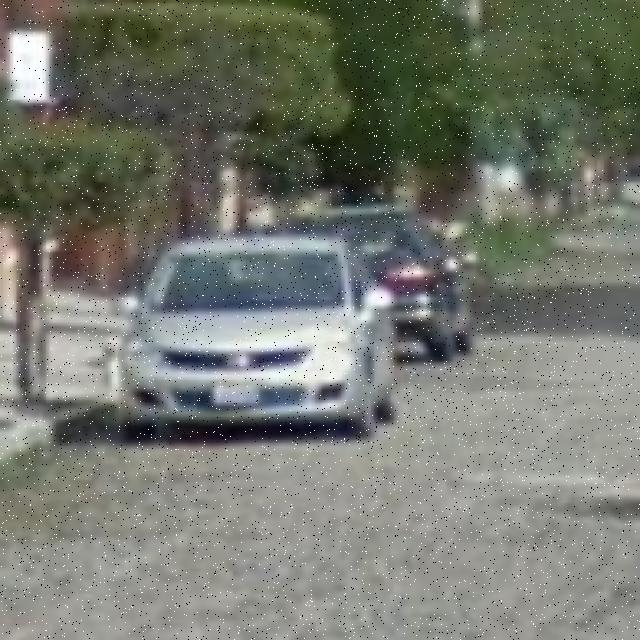cars: (127, 247, 390, 434)
